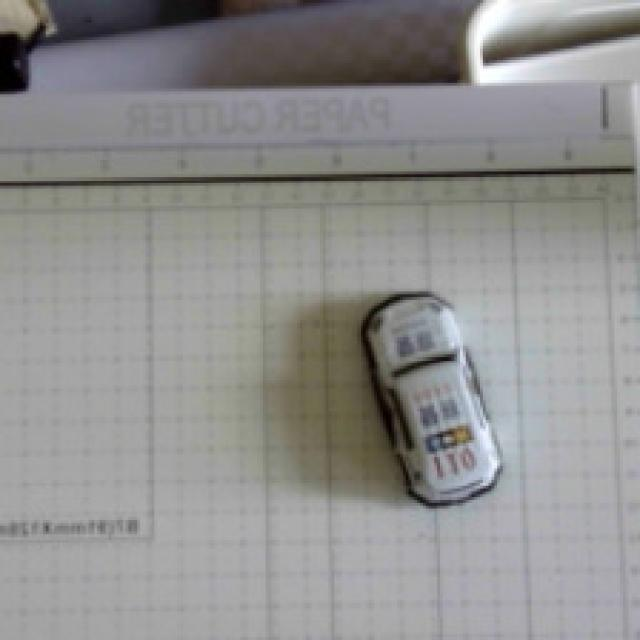Grey Car: (315, 248, 541, 528)
